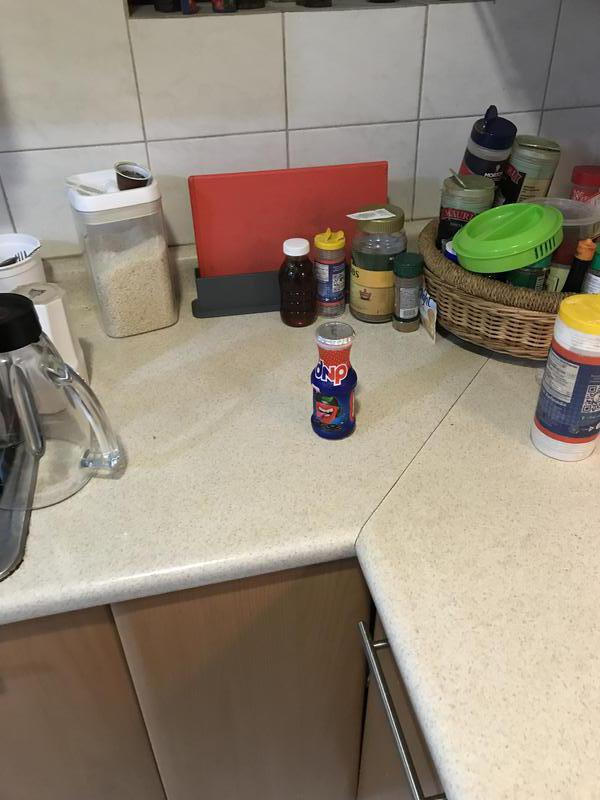danup: (307, 319, 360, 440)
